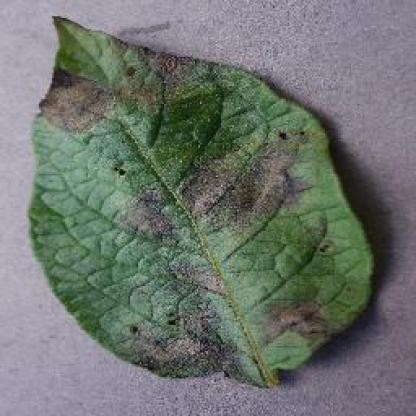bad leaf: (20, 0, 380, 384)
